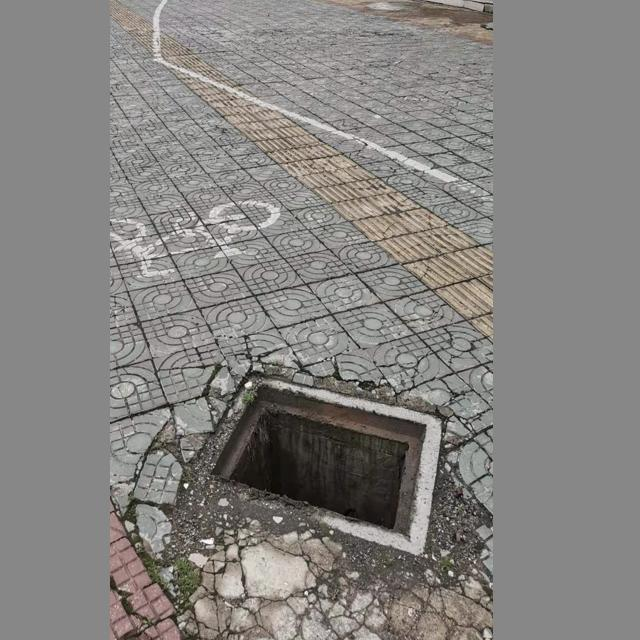lose: (190, 373, 445, 556)
